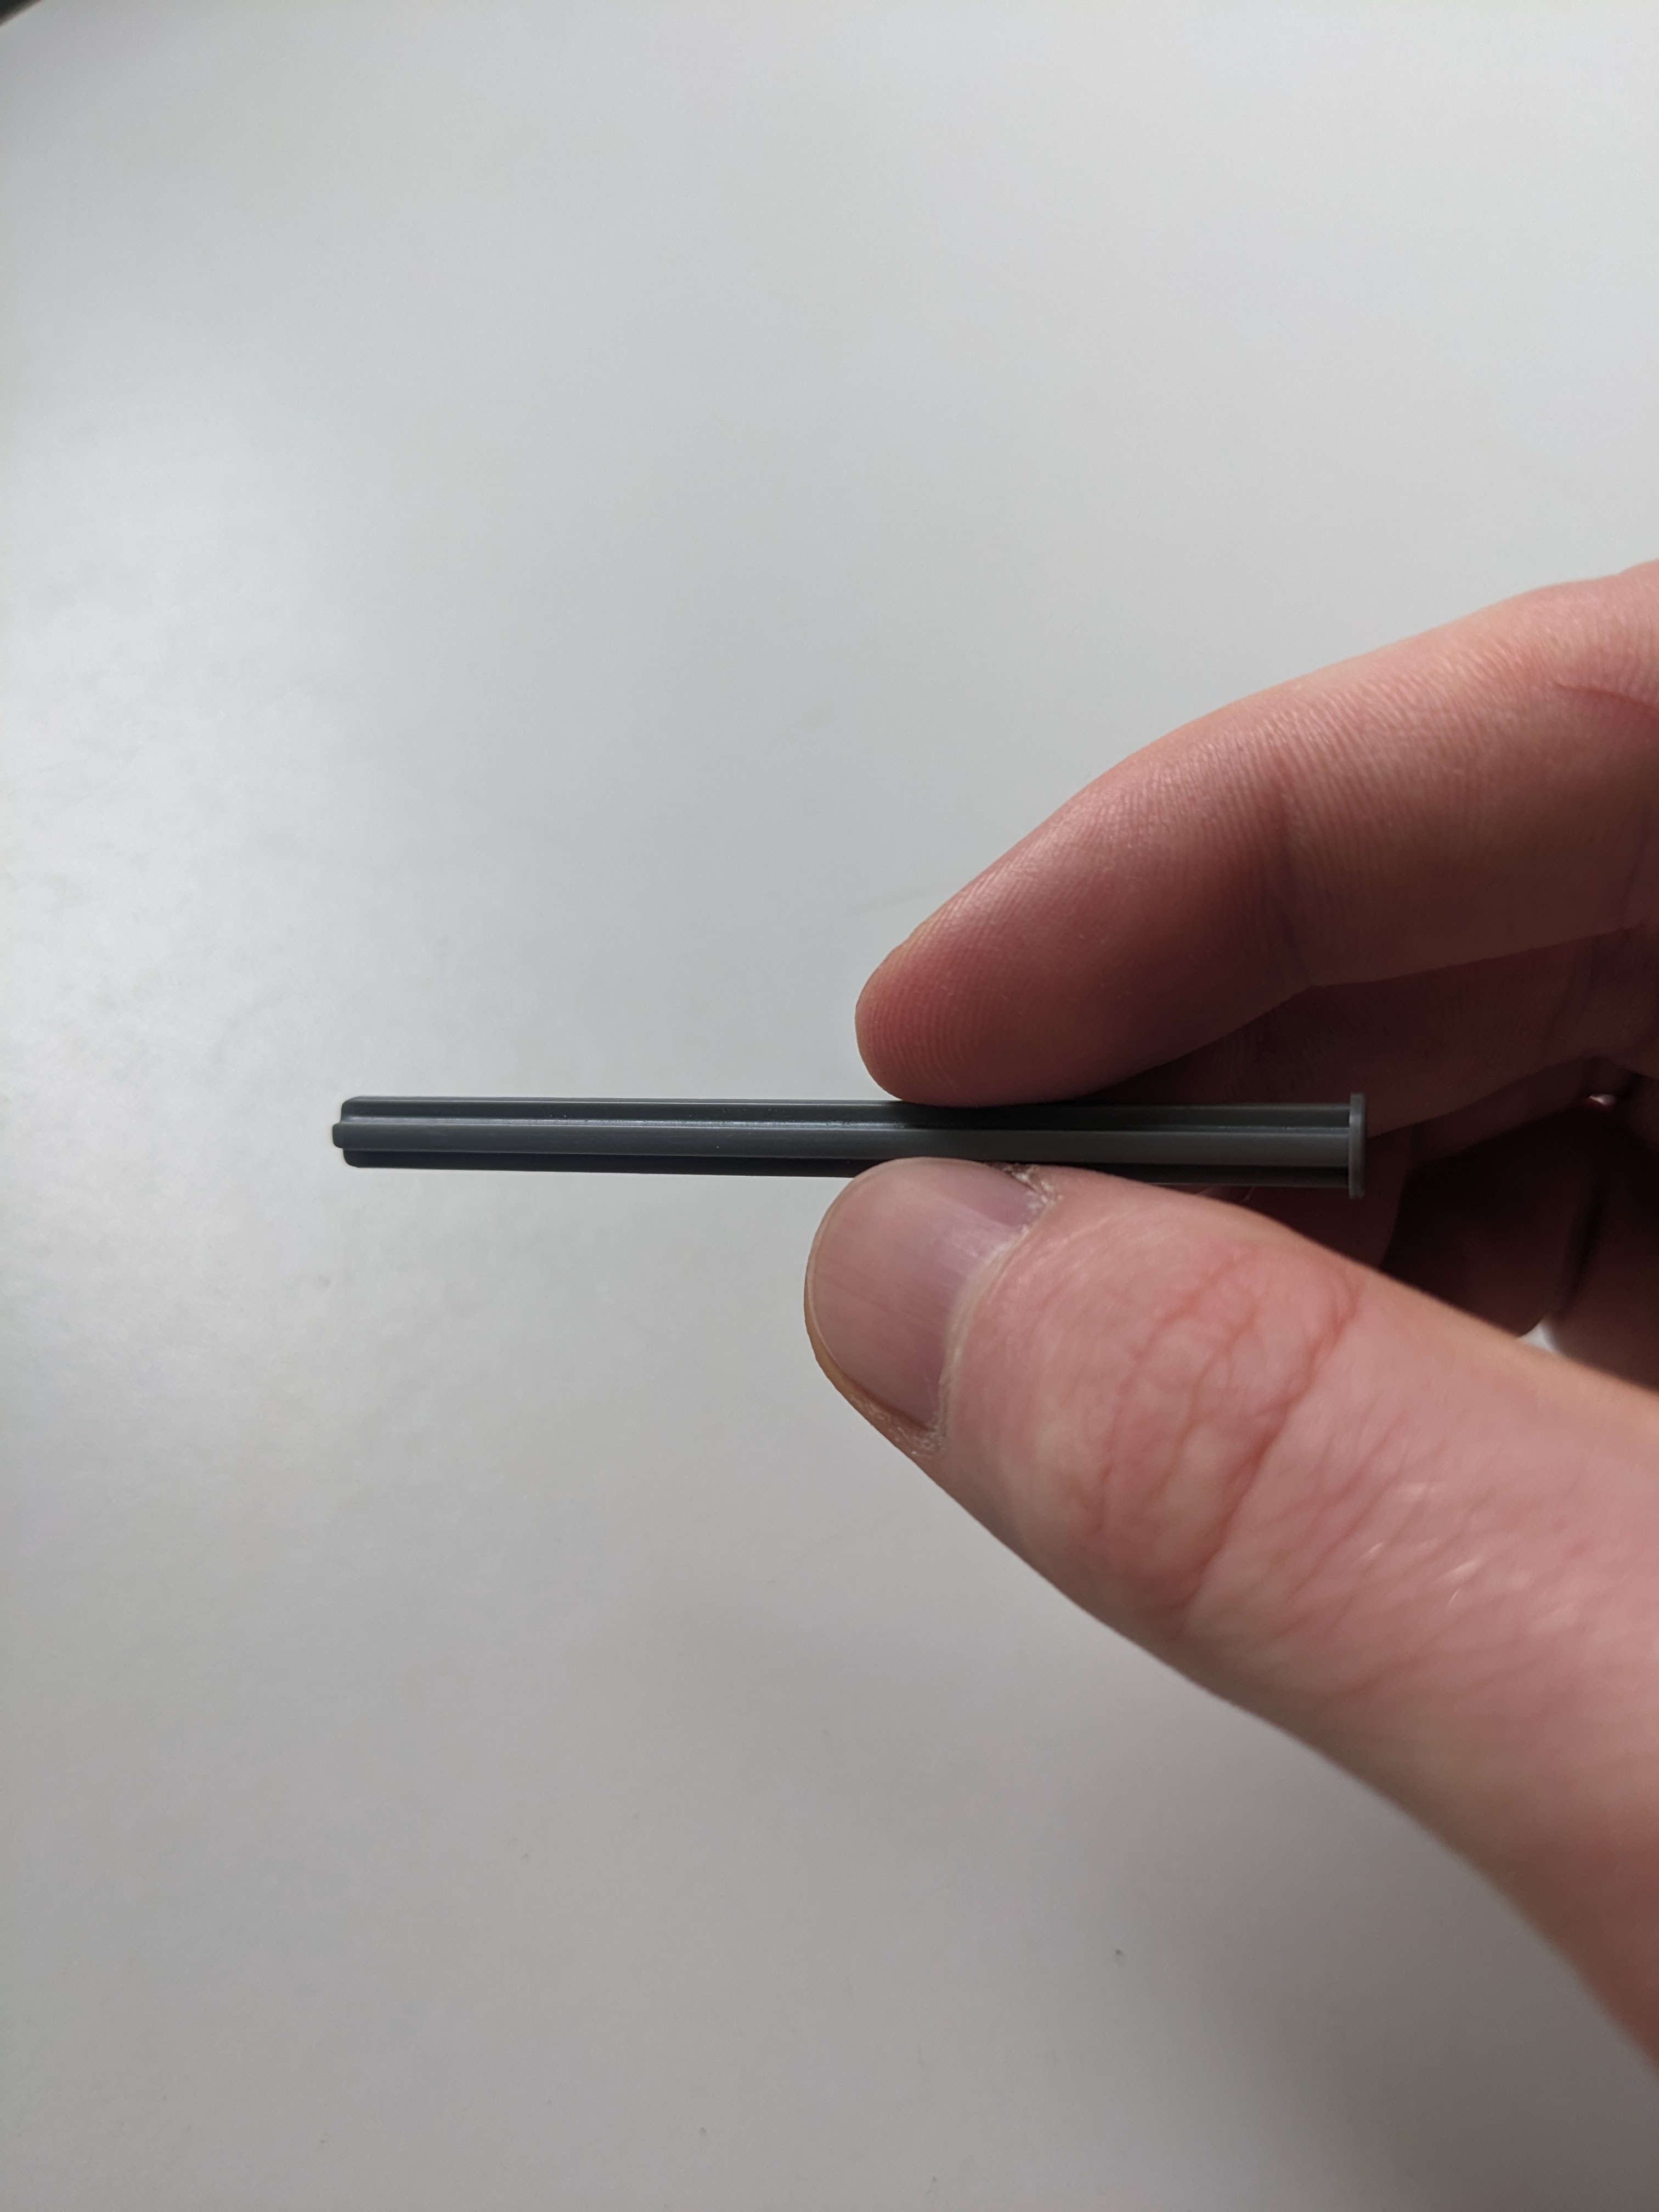Grau_lang: (317, 1045, 1398, 1228)
